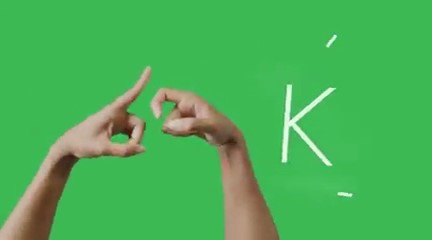K: (55, 57, 250, 179)
